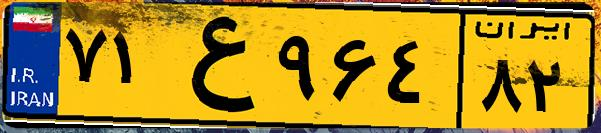1: (110, 28, 158, 98)
2: (525, 38, 570, 115)
4: (385, 28, 445, 110)
6: (330, 28, 385, 110)
7: (57, 26, 110, 100)
8: (475, 38, 525, 113)
9: (270, 28, 330, 110)
ع: (158, 12, 270, 120)
